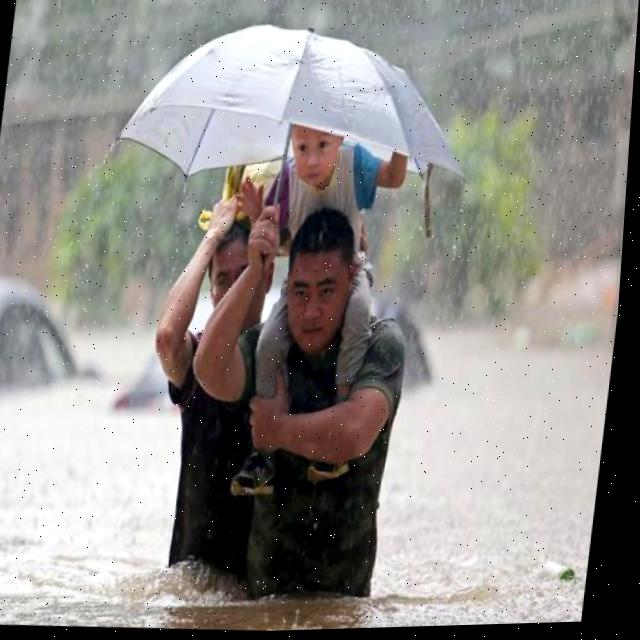civilian: (190, 174, 456, 623), (198, 101, 444, 528), (121, 189, 320, 608)
